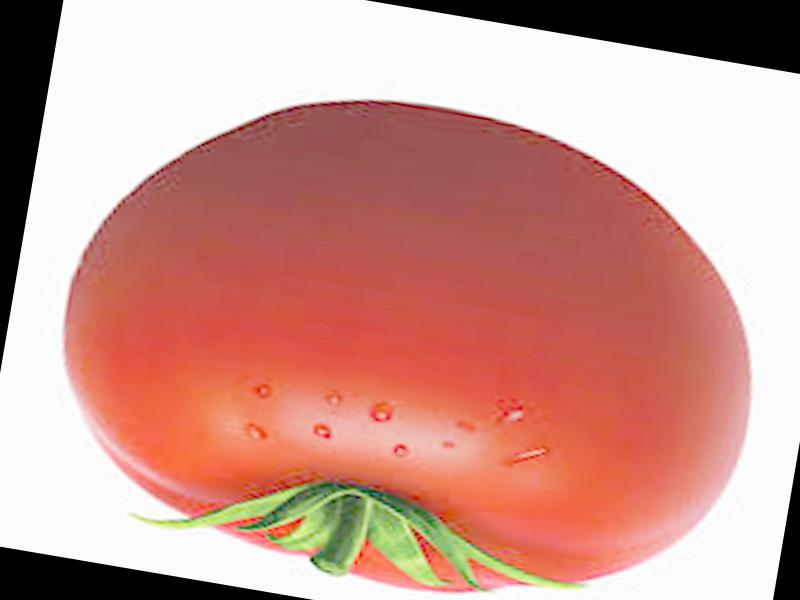Tomato: (29, 49, 710, 600)
